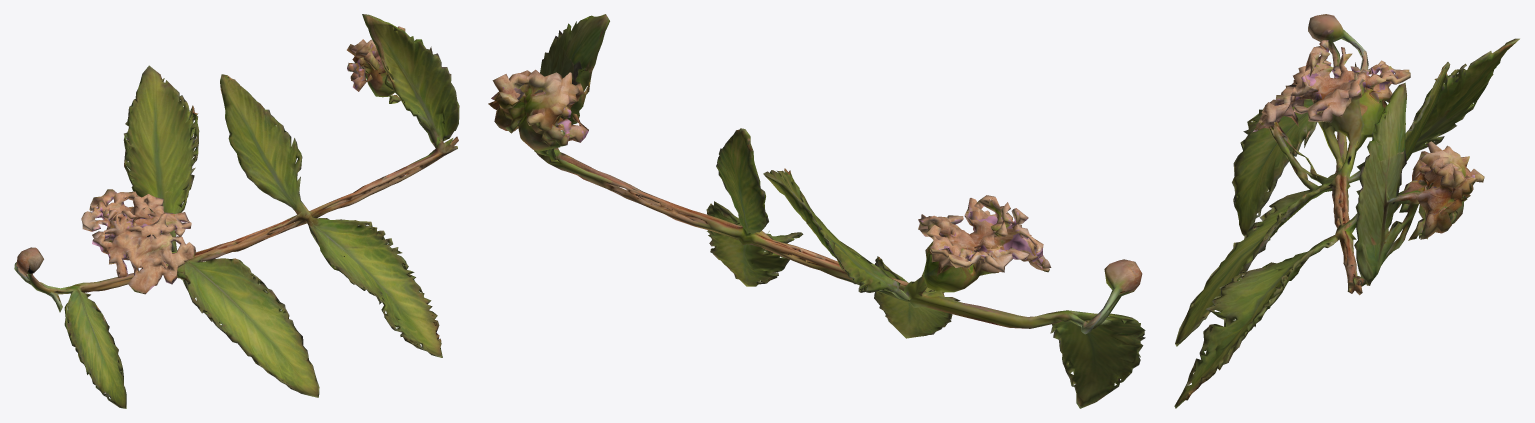
Rendered from falsa-melissa.glb.
The picture shows the model from 3 angles, left to right: view 1: azimuth 30°, elevation 25°; view 2: azimuth 150°, elevation 25°; view 3: azimuth 270°, elevation 25°; orthographic projection. The views are drawn at different scales.
Bounding box in the file's own units: 2 × 1.19 × 1.08.
Materials: 1 (1 with a texture image).
